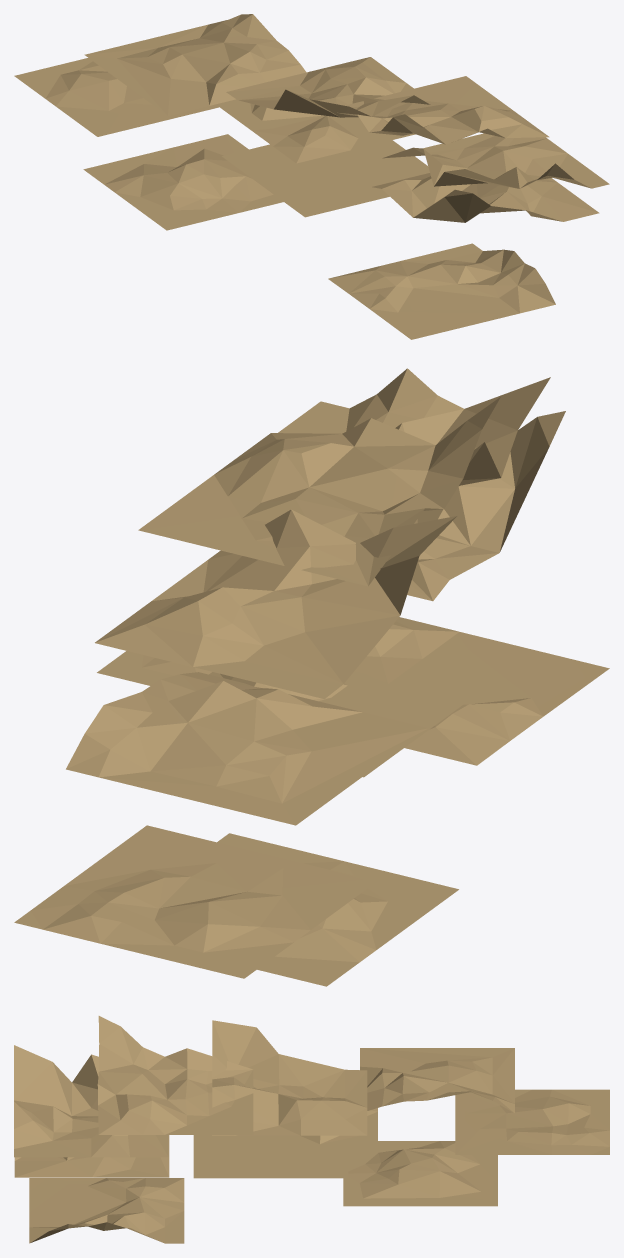
The model's file is dusty_floor.fbx.
3 views of the same model, one above another, from view 1: azimuth 30°, elevation 25°; view 2: azimuth 150°, elevation 25°; view 3: azimuth 270°, elevation 25° (orthographic). The views are drawn at different scales.
Visible parts, largest first — view 1: NGF_Env_Floor_dust_4, NGF_Env_Floor_dust_5, NGF_Env_Floor_dust_1, NGF_Env_Floor_dust_11, NGF_Env_Floor_dust_8, NGF_Env_Floor_dust_7, NGF_Env_Floor_dust_6, NGF_Env_Floor_dust_9, NGF_Env_Floor_dust_2, NGF_Env_Floor_dust_3; view 2: NGF_Env_Floor_dust_6, NGF_Env_Floor_dust_5, NGF_Env_Floor_dust_2, NGF_Env_Floor_dust_7, NGF_Env_Floor_dust_4, NGF_Env_Floor_dust_1, NGF_Env_Floor_dust_8, NGF_Env_Floor_dust_9, NGF_Env_Floor_dust_3, NGF_Env_Floor_dust_11; view 3: NGF_Env_Floor_dust_7, NGF_Env_Floor_dust_6, NGF_Env_Floor_dust_8, NGF_Env_Floor_dust_2, NGF_Env_Floor_dust_1, NGF_Env_Floor_dust_4, NGF_Env_Floor_dust_5, NGF_Env_Floor_dust_11, NGF_Env_Floor_dust_9, NGF_Env_Floor_dust_3.
Part boxes in pixels (x1,y1,x2,y2): NGF_Env_Floor_dust_4: (328, 243, 555, 339); NGF_Env_Floor_dust_5: (84, 14, 306, 115); NGF_Env_Floor_dust_1: (83, 134, 283, 230); NGF_Env_Floor_dust_11: (222, 140, 429, 217); NGF_Env_Floor_dust_8: (382, 133, 609, 188); NGF_Env_Floor_dust_7: (337, 76, 549, 144); NGF_Env_Floor_dust_6: (226, 57, 430, 117); NGF_Env_Floor_dust_9: (372, 173, 599, 222); NGF_Env_Floor_dust_2: (14, 58, 218, 136); NGF_Env_Floor_dust_3: (216, 99, 415, 163); NGF_Env_Floor_dust_6: (95, 509, 456, 698); NGF_Env_Floor_dust_5: (66, 672, 428, 825); NGF_Env_Floor_dust_2: (14, 825, 376, 978); NGF_Env_Floor_dust_7: (138, 397, 500, 586); NGF_Env_Floor_dust_4: (404, 632, 609, 765); NGF_Env_Floor_dust_1: (217, 833, 458, 986); NGF_Env_Floor_dust_8: (278, 368, 550, 523); NGF_Env_Floor_dust_9: (407, 411, 565, 601); NGF_Env_Floor_dust_3: (97, 617, 459, 709); NGF_Env_Floor_dust_11: (353, 661, 496, 777); NGF_Env_Floor_dust_7: (97, 1016, 253, 1134); NGF_Env_Floor_dust_6: (212, 1020, 367, 1135); NGF_Env_Floor_dust_8: (14, 1045, 168, 1157); NGF_Env_Floor_dust_2: (455, 1089, 609, 1154); NGF_Env_Floor_dust_1: (343, 1141, 497, 1206); NGF_Env_Floor_dust_4: (29, 1178, 184, 1243); NGF_Env_Floor_dust_5: (360, 1048, 514, 1113); NGF_Env_Floor_dust_11: (193, 1135, 348, 1178); NGF_Env_Floor_dust_9: (14, 1135, 169, 1177); NGF_Env_Floor_dust_3: (223, 1108, 377, 1144).
Size of the model in its own units: 757 by 504 by 1541.
